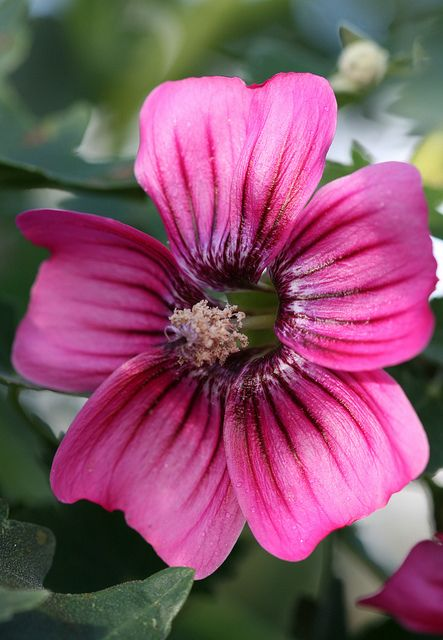Hibiscus: (1, 60, 437, 565)
